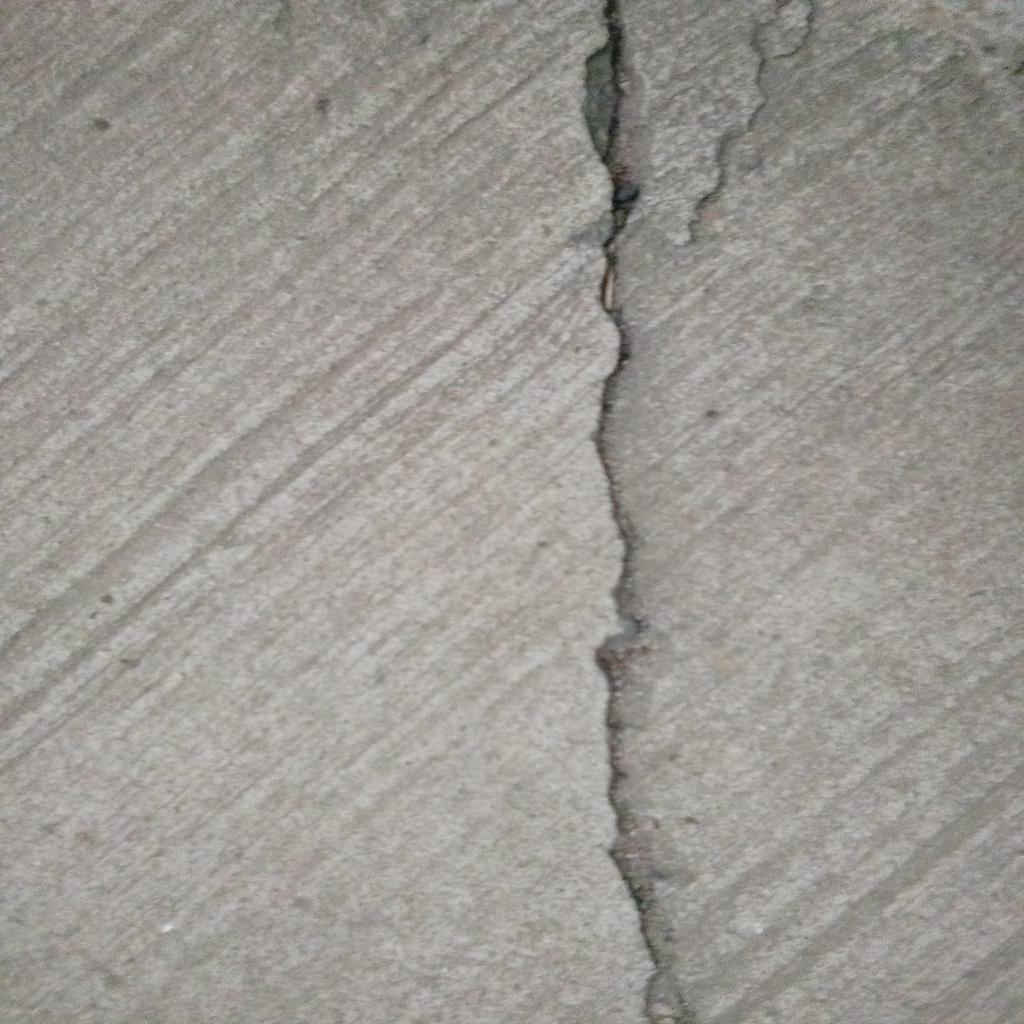Crack: (580, 1, 697, 1024), (674, 1, 815, 250)
